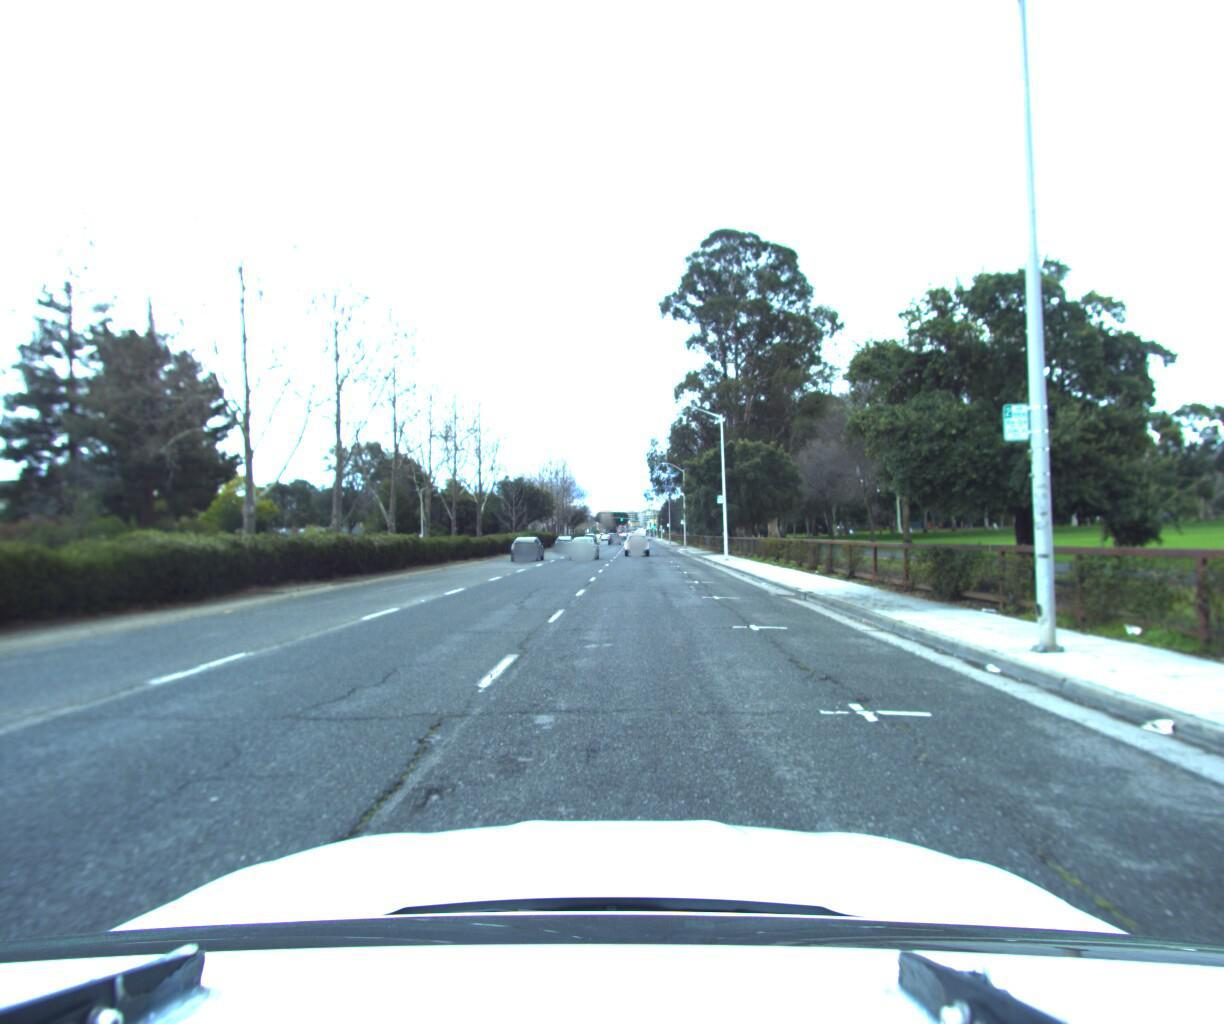car: (510, 533, 546, 558), (566, 532, 599, 556), (622, 529, 649, 554)
